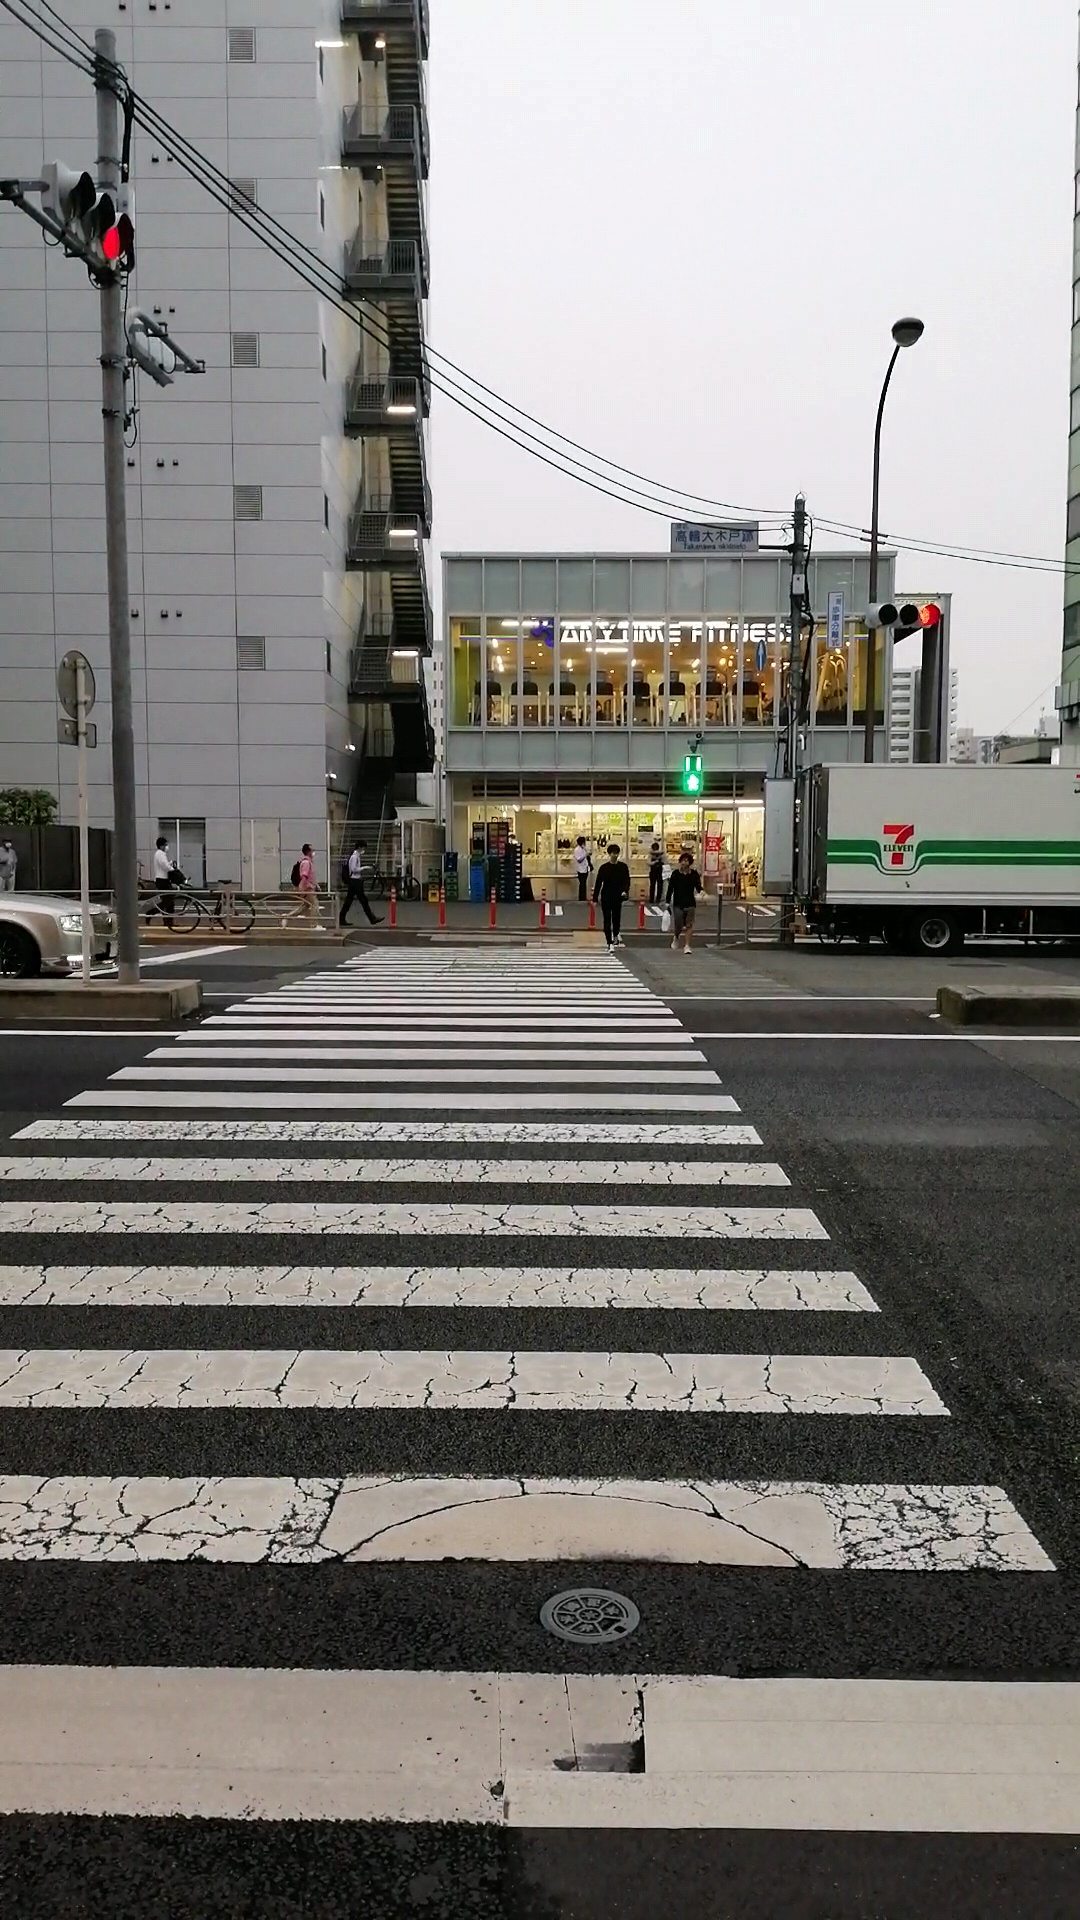green: (680, 753, 704, 793)
